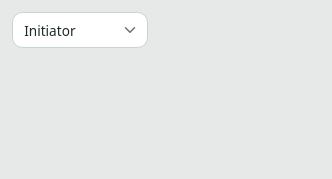
UserRoleCell › only offers Attestant and Initiator
This screenshot has width=332, height=179.
Step 1. Click the dropdown named "Roll för Erik Eriksson" → {"x": 80, "y": 30}, box 12,12 -> 148,48
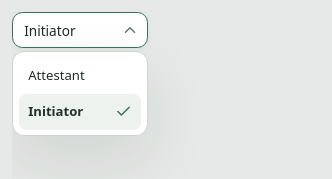
Expected: the options read "Attestant", "Initiator", in this order, 28,66 -> 85,84; 19,94 -> 141,130
